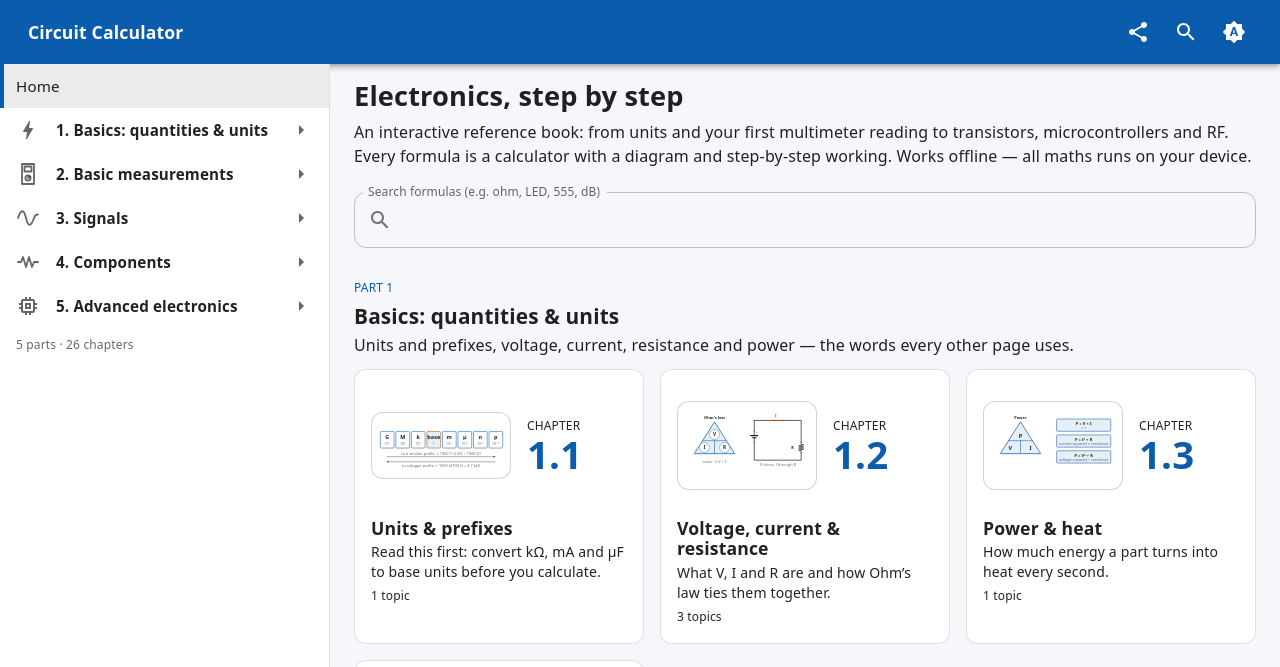
Test: search dialog › has a labelled search icon in the app bar; opens focused and lists the chapters to begin with
Click the button with test id "search-button" at (1186, 32), box left=1164, top=10, right=1208, bottom=54
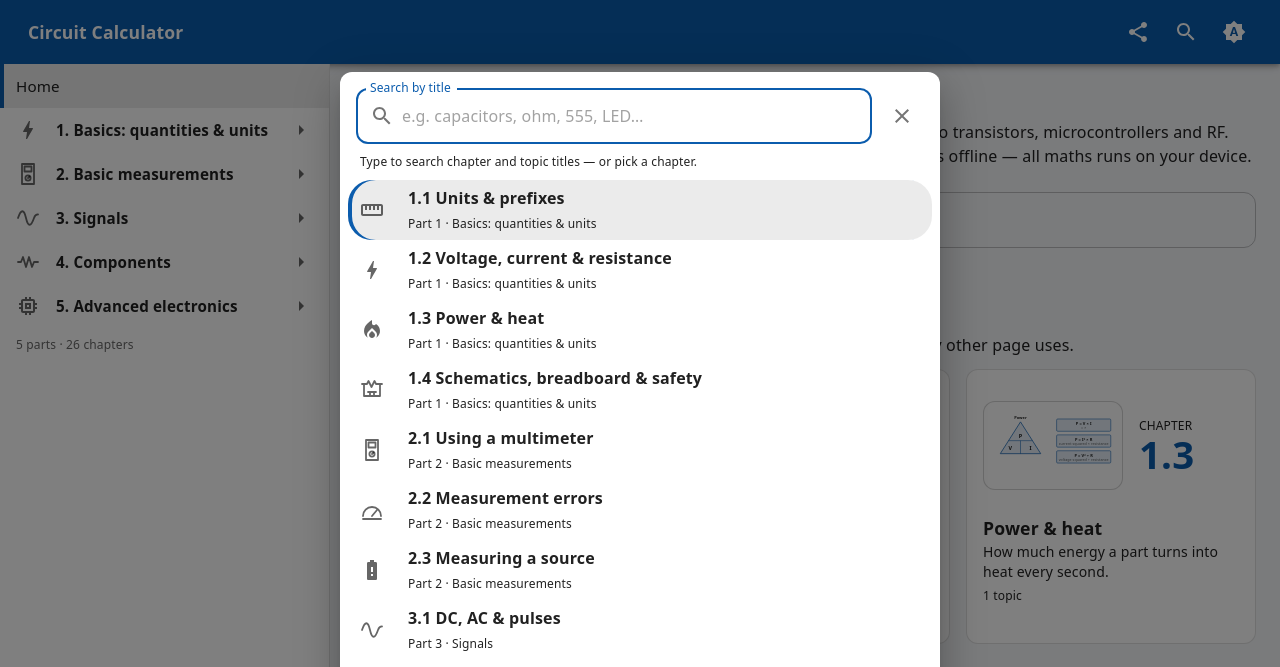
expect the message with test id "search-status" shows "Type to search": met, box left=360, top=153, right=697, bottom=170
